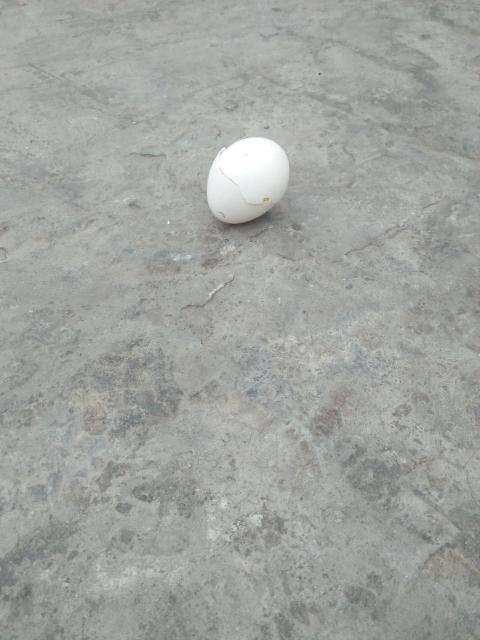Roto: (206, 136, 290, 224)
